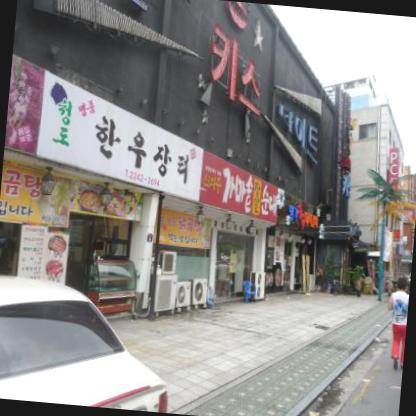car: (0, 264, 174, 412), (406, 272, 410, 293)
